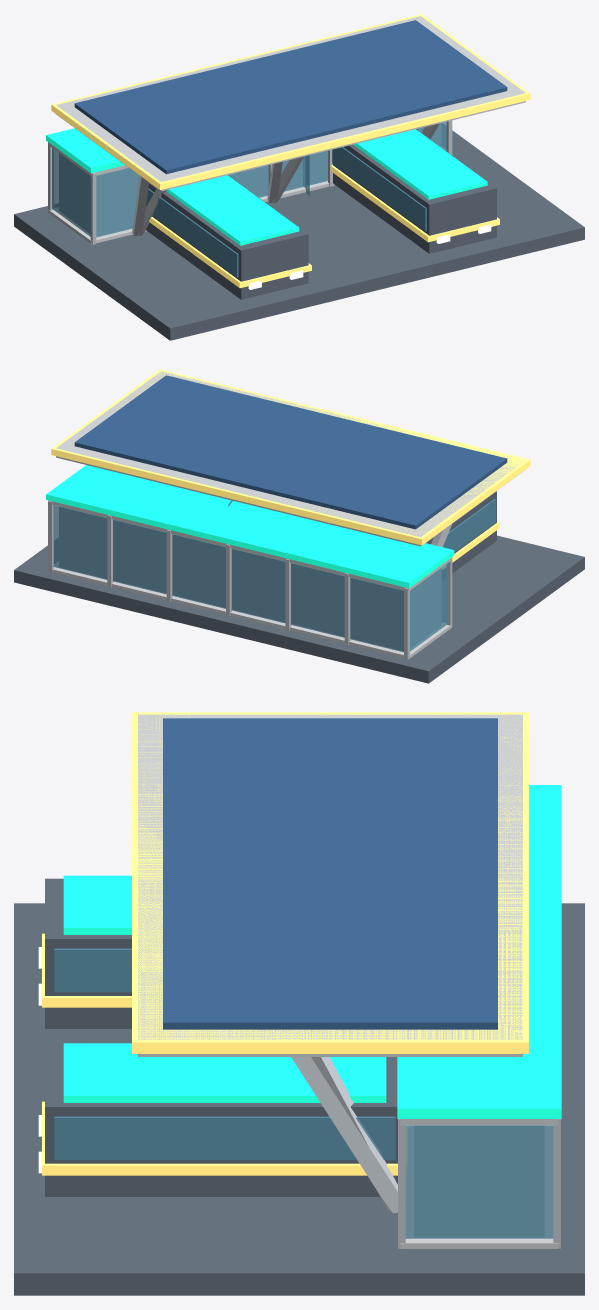
Rendered from executive_fleet_terminal.glb.
3 renders of one model, top to bottom at view 1: azimuth 30°, elevation 25°; view 2: azimuth 150°, elevation 25°; view 3: azimuth 270°, elevation 25°, orthographic. The views are drawn at different scales.
Visible parts, largest first — view 1: executive_fleet_terminal; view 2: executive_fleet_terminal; view 3: executive_fleet_terminal.
Boxes of the visible parts, left/top/right/bottom form: executive_fleet_terminal: left=14, top=14, right=584, bottom=340; executive_fleet_terminal: left=14, top=369, right=584, bottom=683; executive_fleet_terminal: left=14, top=712, right=584, bottom=1295.
Bounding box in the file's own units: 2.82 × 0.855 × 1.84.
